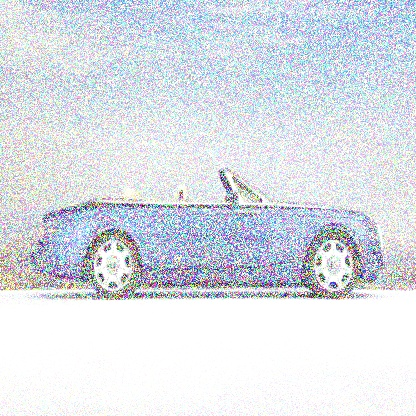Vehicle: (29, 167, 393, 300)
